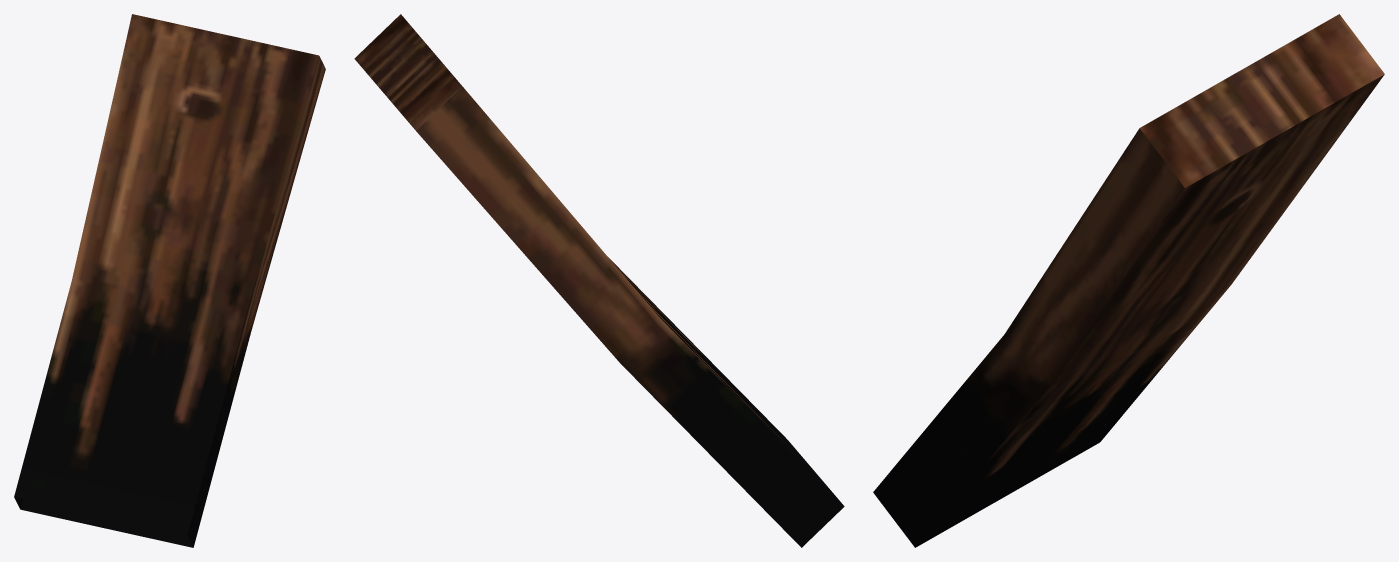
Rendered from OVERHILL_A_01_BROKEN_BOARD_01.fbx.
3 views of the same model, side by side, from view 1: azimuth 30°, elevation 25°; view 2: azimuth 150°, elevation 25°; view 3: azimuth 270°, elevation 25° (orthographic). The views are drawn at different scales.
Parts seen in each view (by area): view 1: OVERHILL_A_01_BROKEN_BOARD_01; view 2: OVERHILL_A_01_BROKEN_BOARD_01; view 3: OVERHILL_A_01_BROKEN_BOARD_01.
Boxes of the visible parts, x1,y1,x2,y2 form: OVERHILL_A_01_BROKEN_BOARD_01: (14, 14, 325, 547); OVERHILL_A_01_BROKEN_BOARD_01: (354, 14, 844, 547); OVERHILL_A_01_BROKEN_BOARD_01: (873, 14, 1384, 547).
Size of the model in its own units: 7404 by 8104 by 6333.
1 material, 1 textured.
